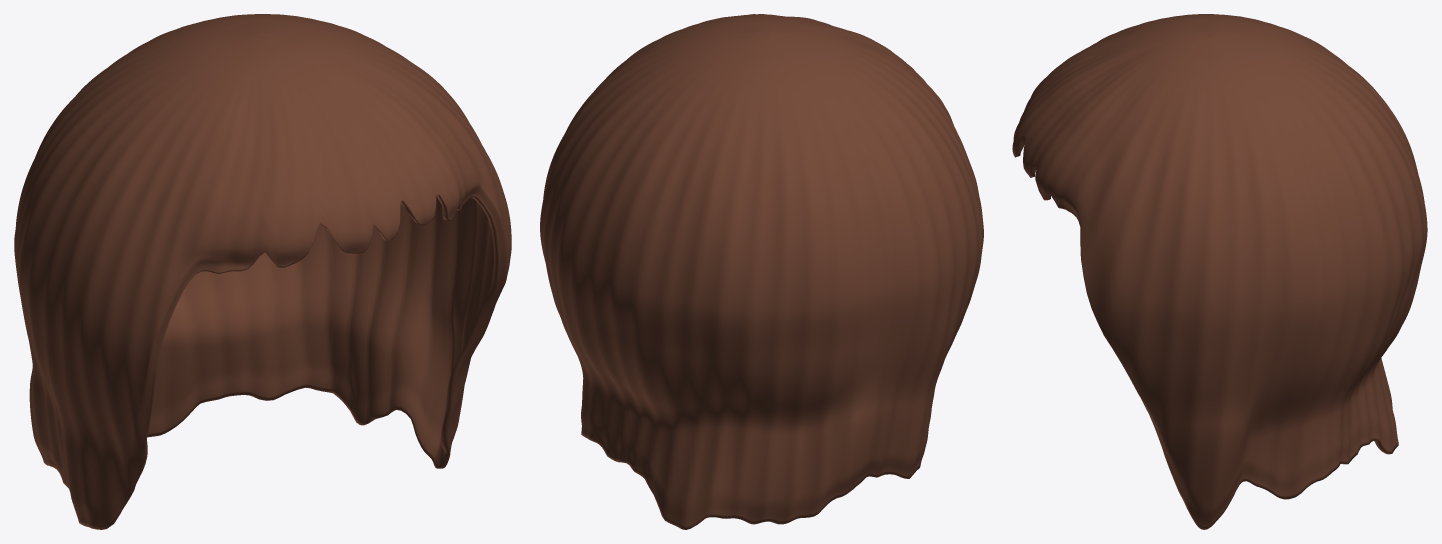
Rendered from air.glb.
3 views of the same model, side by side, from view 1: azimuth 30°, elevation 25°; view 2: azimuth 150°, elevation 25°; view 3: azimuth 270°, elevation 25° (orthographic). The views are drawn at different scales.
Parts seen in each view (by area): view 1: Hair / air fringe study; view 2: Hair / air fringe study; view 3: Hair / air fringe study.
Boxes of the visible parts, bbox=[...] form: Hair / air fringe study: bbox=[14, 14, 511, 529]; Hair / air fringe study: bbox=[540, 14, 983, 529]; Hair / air fringe study: bbox=[1012, 14, 1427, 529].
Bounding box in the file's own units: 0.8388 × 0.8786 × 0.7881.
